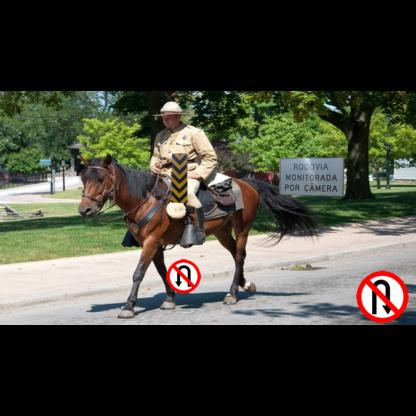I-E: (279, 157, 344, 197)
O-MP: (171, 153, 187, 203)
R-5a: (166, 259, 201, 293)
